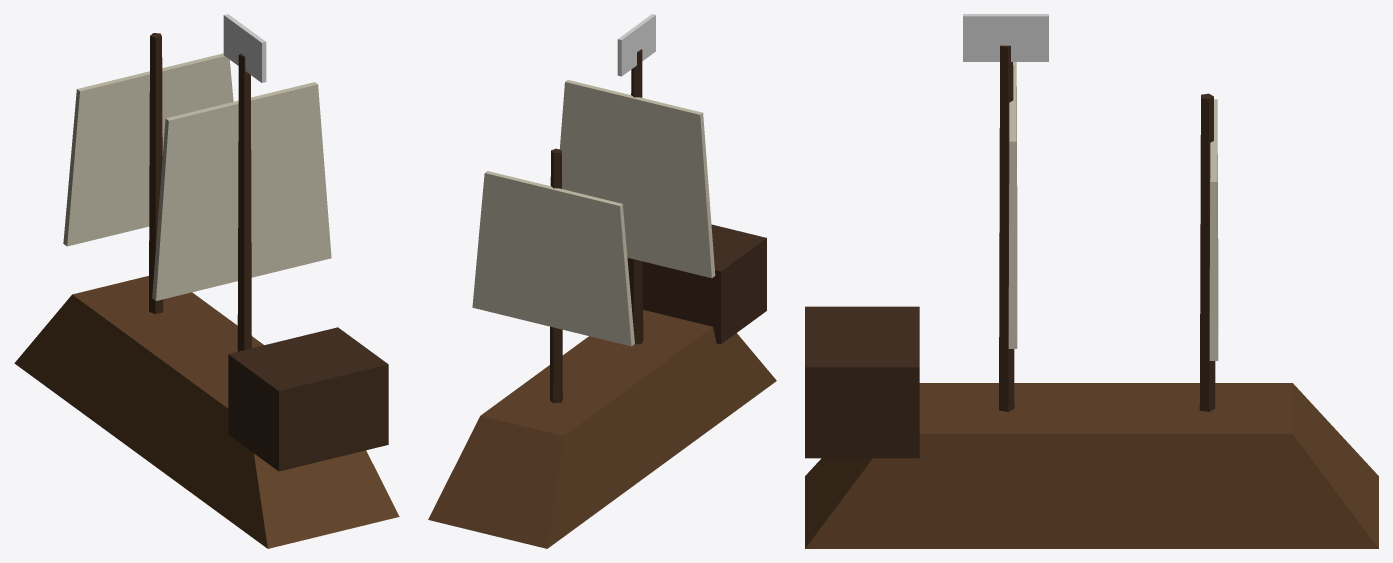
File: ship_sail.glb
3 views of the same model, side by side, from view 1: azimuth 30°, elevation 25°; view 2: azimuth 150°, elevation 25°; view 3: azimuth 270°, elevation 25° (orthographic). The views are drawn at different scales.
Parts seen in each view (by area): view 1: ship_sail; view 2: ship_sail; view 3: ship_sail.
Boxes of the visible parts, box(x1,y1,x2,y2) form: ship_sail: box(14, 14, 399, 548); ship_sail: box(428, 14, 776, 548); ship_sail: box(805, 14, 1378, 548).
Bounding box in the file's own units: 1.6 × 3.83 × 4.
